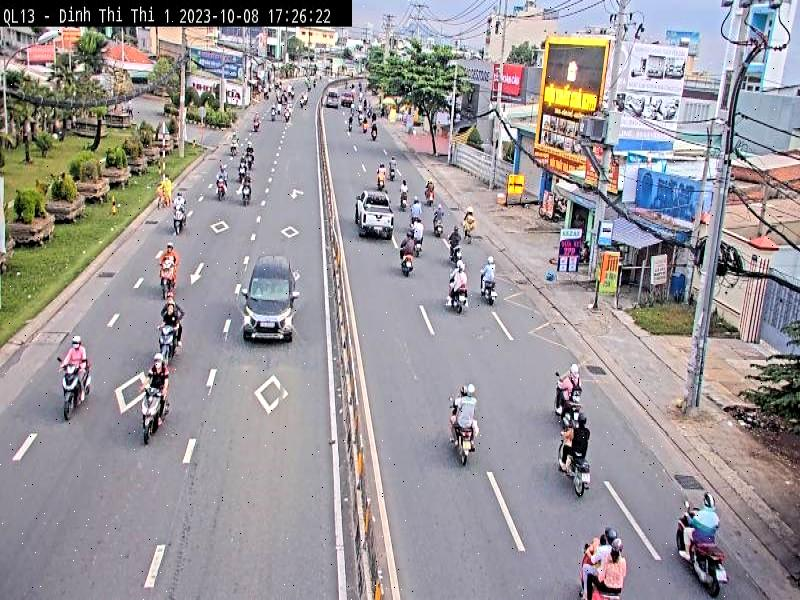car: (239, 256, 299, 341), (356, 202, 395, 239)
motorcycle: (564, 449, 593, 499)
